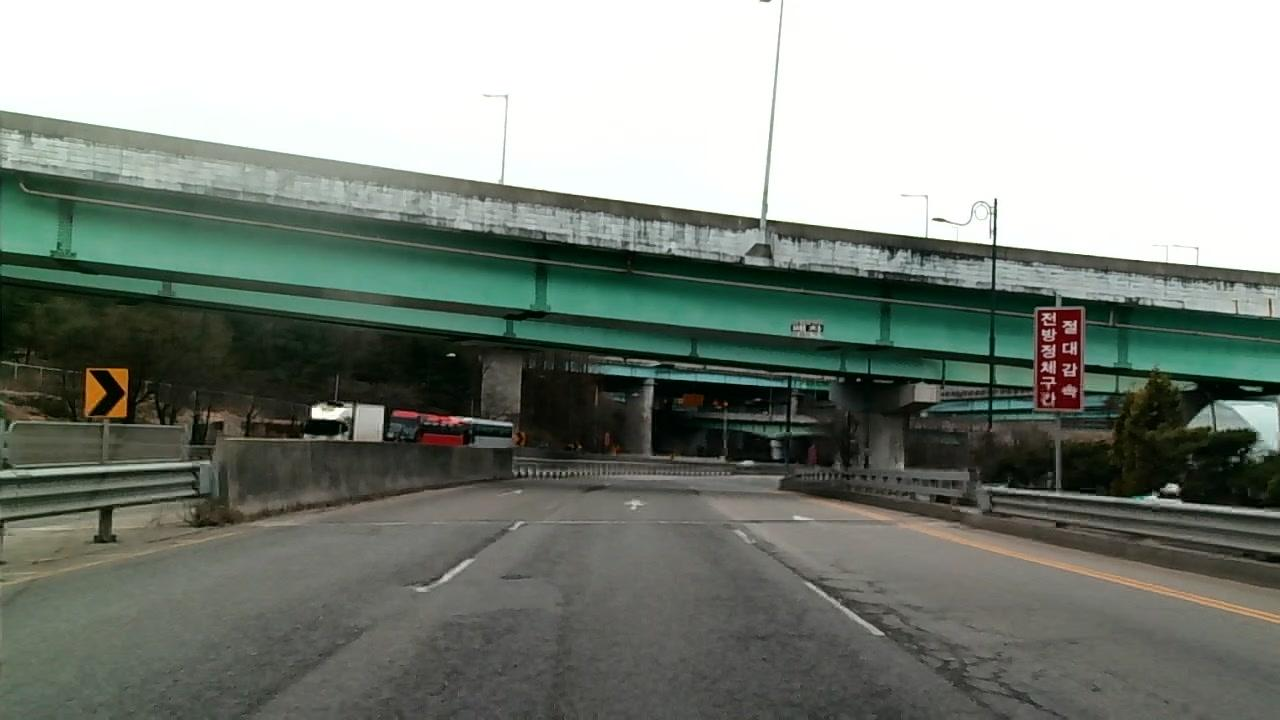banner: (810, 574, 1073, 720), (142, 628, 362, 720), (706, 623, 890, 720), (396, 615, 559, 720), (755, 543, 812, 577), (411, 555, 468, 589), (497, 569, 532, 586)
